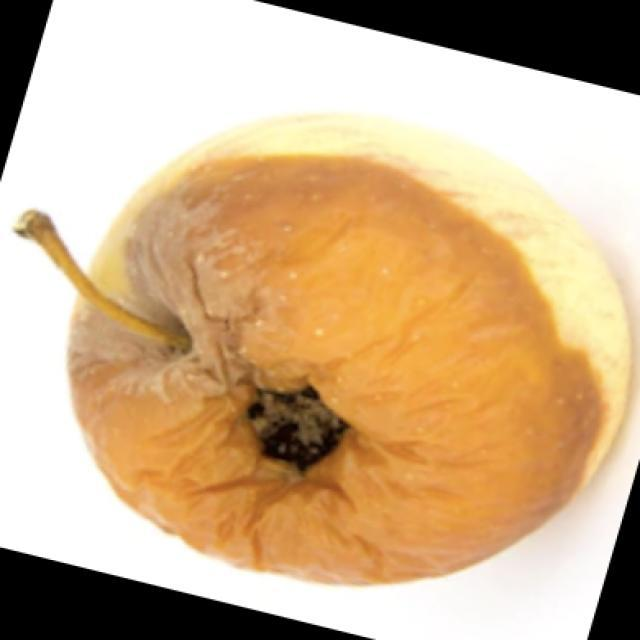Rotten: (65, 135, 610, 590)
